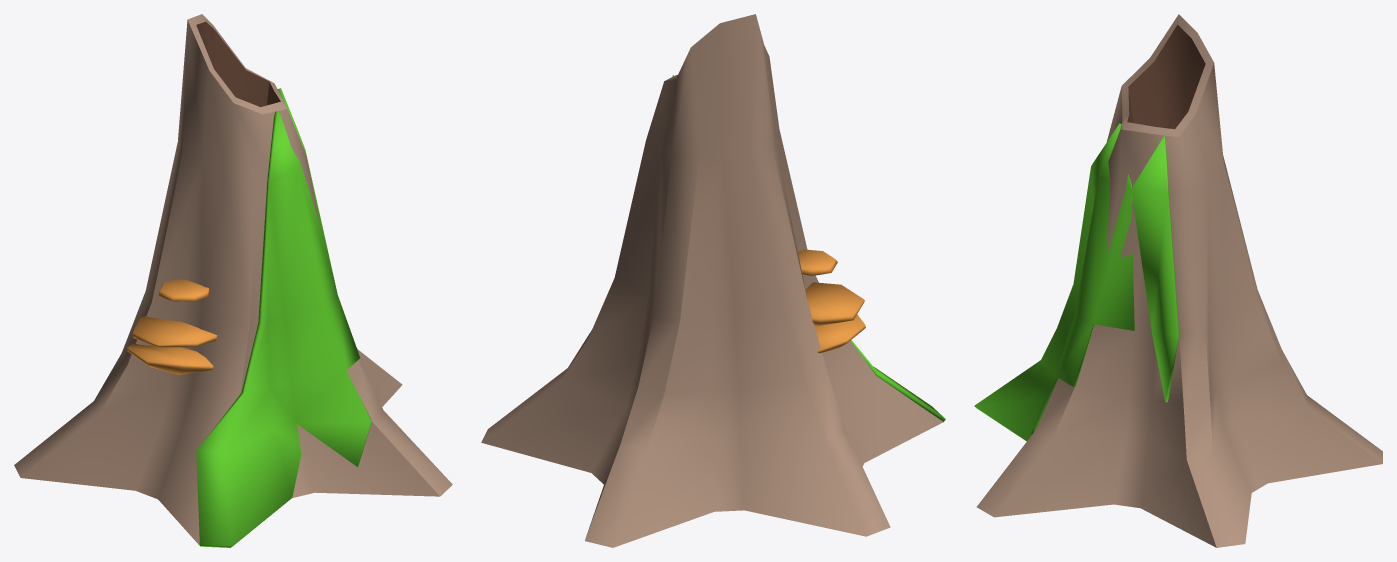
File: JungleTree_trunk.fbx
3 renders of one model, left to right at view 1: azimuth 30°, elevation 25°; view 2: azimuth 150°, elevation 25°; view 3: azimuth 270°, elevation 25°, orthographic. The views are drawn at different scales.
Visible parts, largest first — view 1: JungleTree_01_trunk, Moss01, Fungi; view 2: JungleTree_01_trunk, Fungi, Moss01; view 3: JungleTree_01_trunk, Moss01.
Part boxes in pixels (<box>): JungleTree_01_trunk: <box>14,14,452,545</box>; Moss01: <box>196,88,371,547</box>; Fungi: <box>127,279,216,374</box>; JungleTree_01_trunk: <box>481,14,943,547</box>; Fungi: <box>798,249,865,353</box>; Moss01: <box>672,75,945,421</box>; JungleTree_01_trunk: <box>976,14,1382,547</box>; Moss01: <box>974,123,1178,441</box>.
Size of the model in its own units: 5.39 by 5.89 by 5.15.
